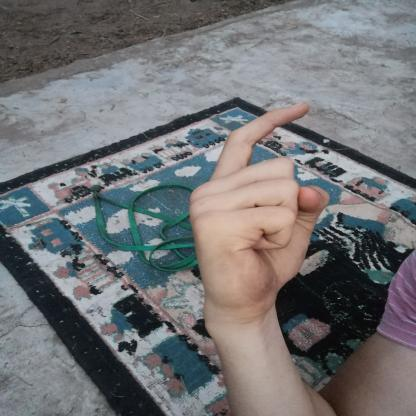RAA: (178, 95, 340, 321)
